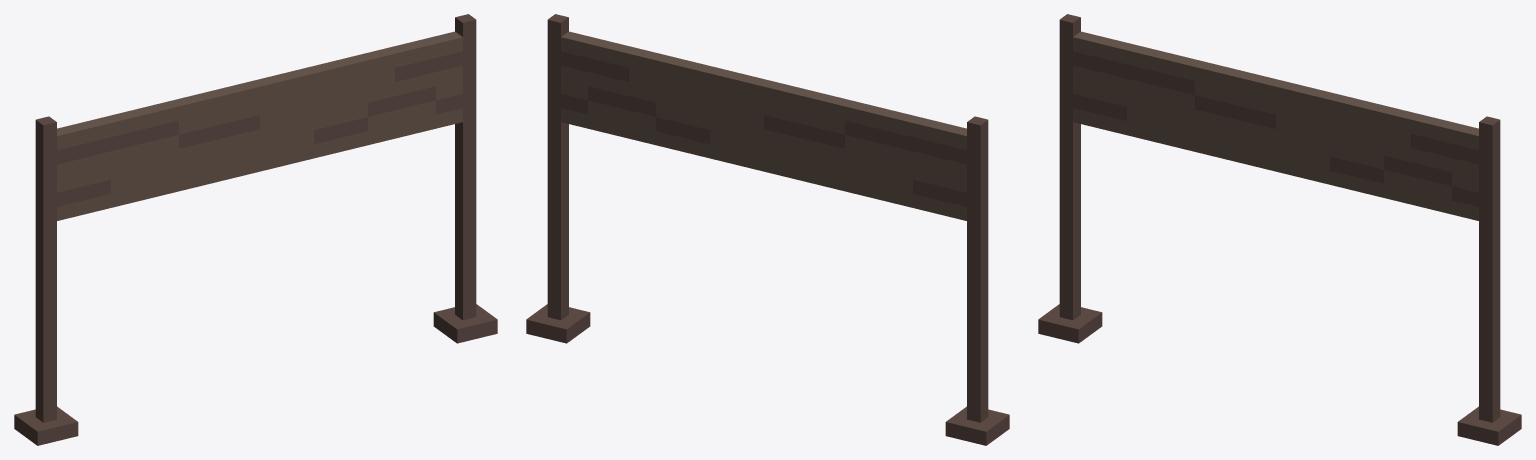
The model's file is arch.fbx.
3 renders of one model, left to right at view 1: azimuth 30°, elevation 25°; view 2: azimuth 150°, elevation 25°; view 3: azimuth 330°, elevation 25°, orthographic.
Parts seen in each view (by area): view 1: arch_0; view 2: arch_0; view 3: arch_0.
Boxes of the visible parts, bbox=[...] form: arch_0: bbox=[14, 14, 497, 445]; arch_0: bbox=[526, 14, 1009, 445]; arch_0: bbox=[1038, 14, 1521, 445].
Size of the model in its own units: 3400 by 300 by 2200.
